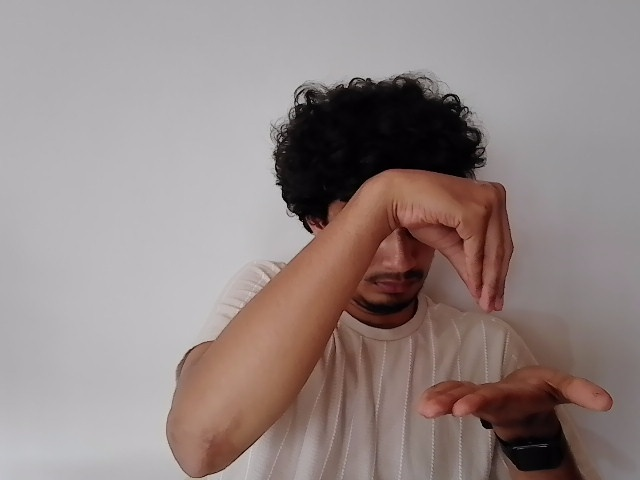learn: (384, 171, 614, 424)
